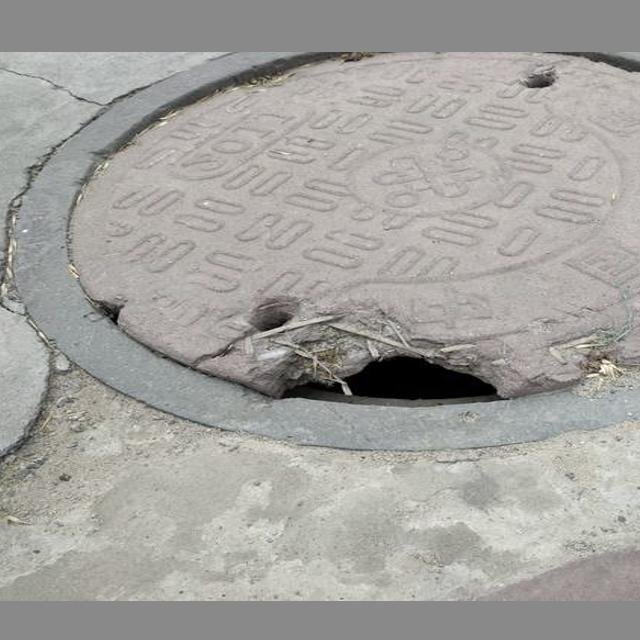broke: (1, 55, 640, 445)
